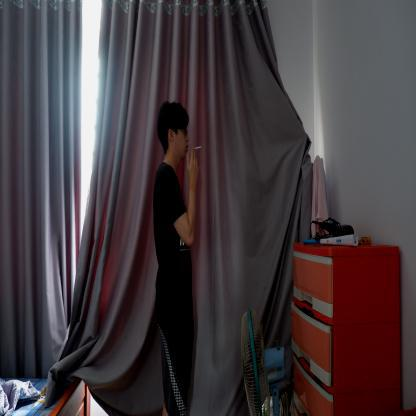cigarette: (193, 146, 202, 150)
person: (151, 99, 202, 415)
